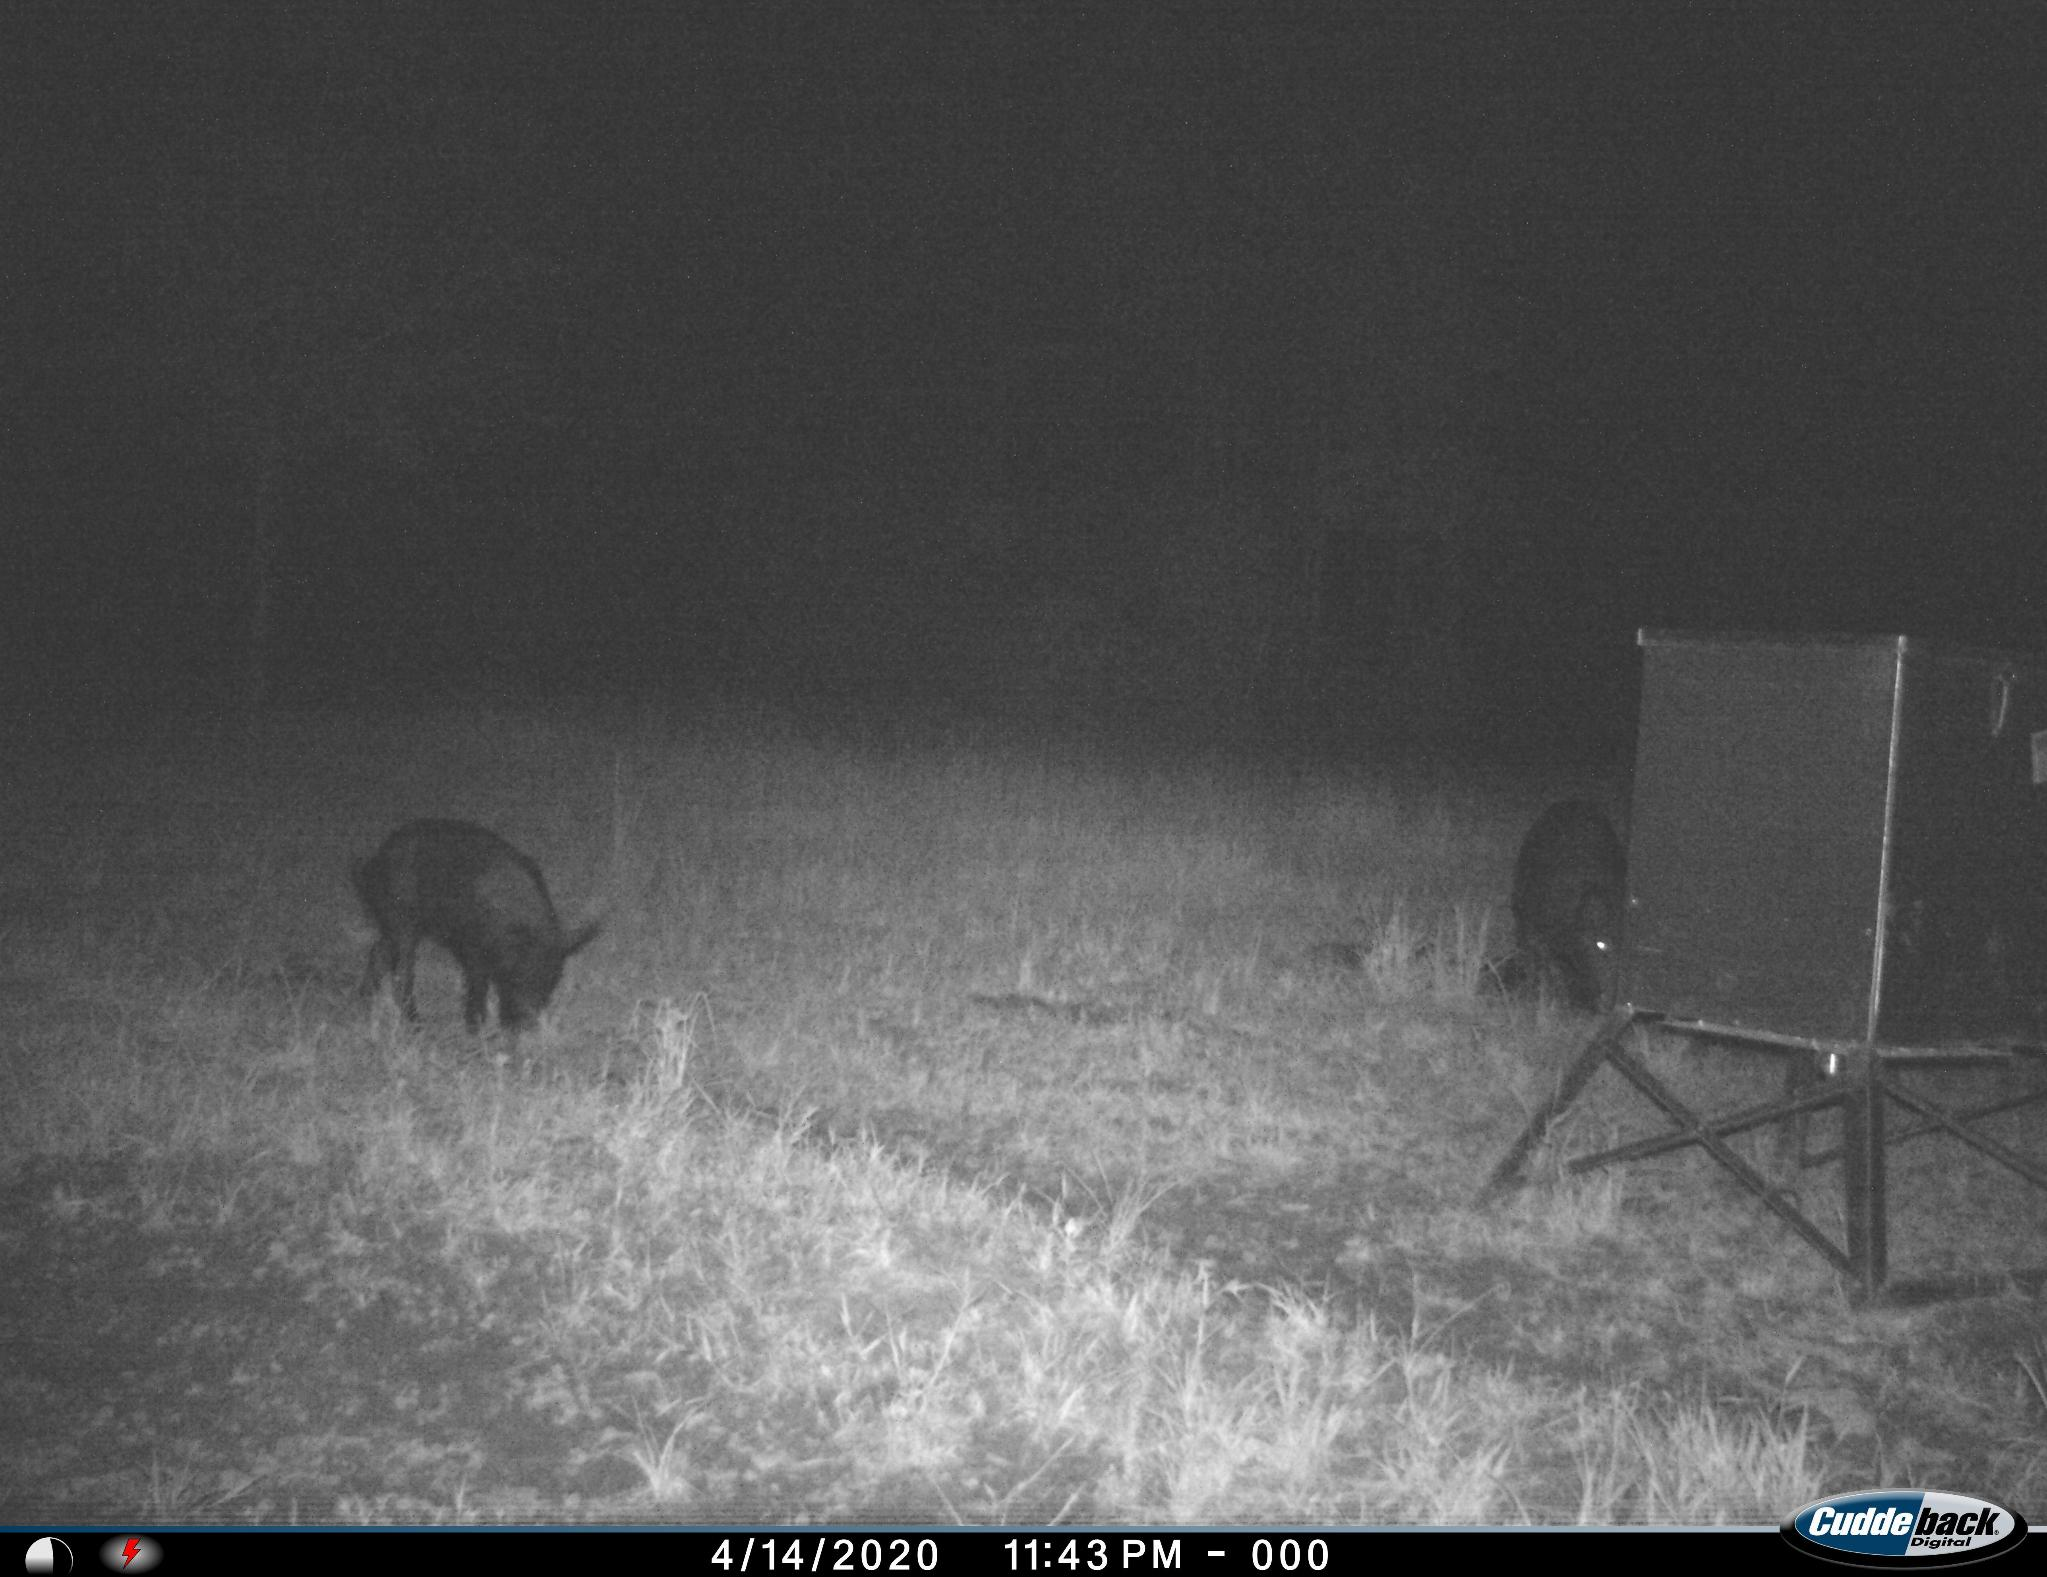Hog: (331, 807, 609, 1035), (1489, 787, 1636, 1022)
